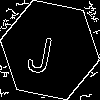J: (25, 25, 57, 75)
